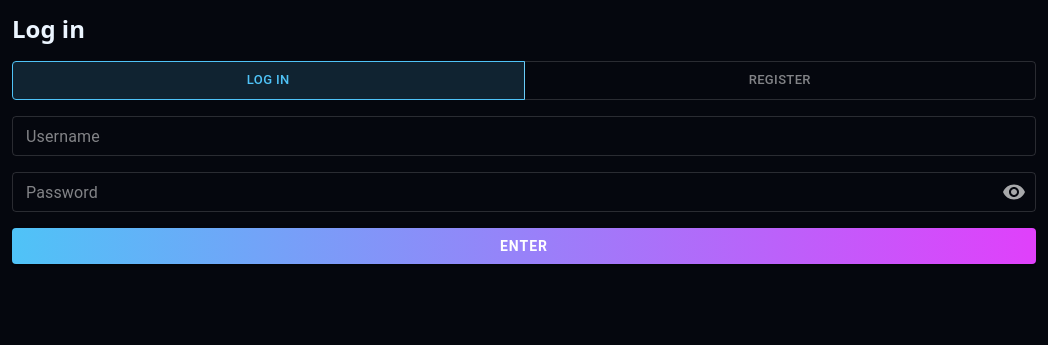
Test: RegisterForm › shows a validation error when password is too short
Type "Pablo" into the field labelled "Username" at (524, 136), box 12,116 -> 1036,156
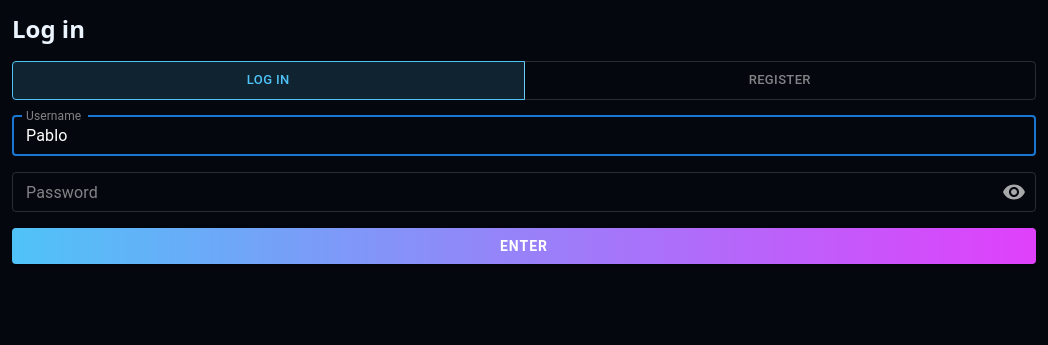
Type "123" into the password field labelled "Password" at (499, 192), box 12,172 -> 986,212
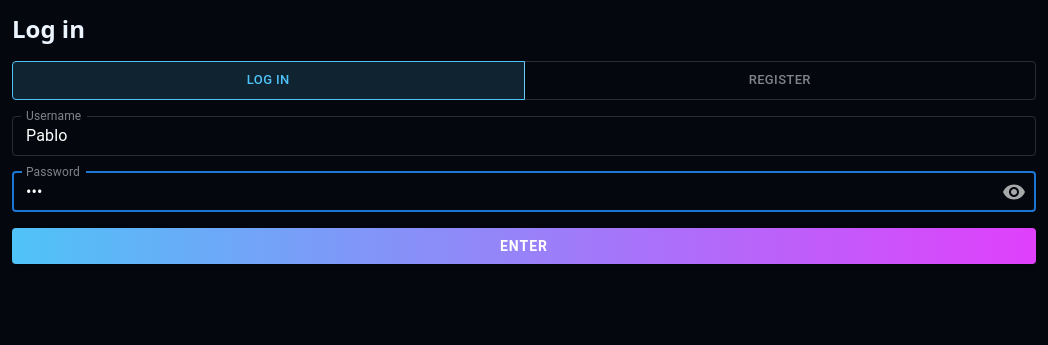
Click the button "Enter" at (524, 246), box 12,228 -> 1036,264
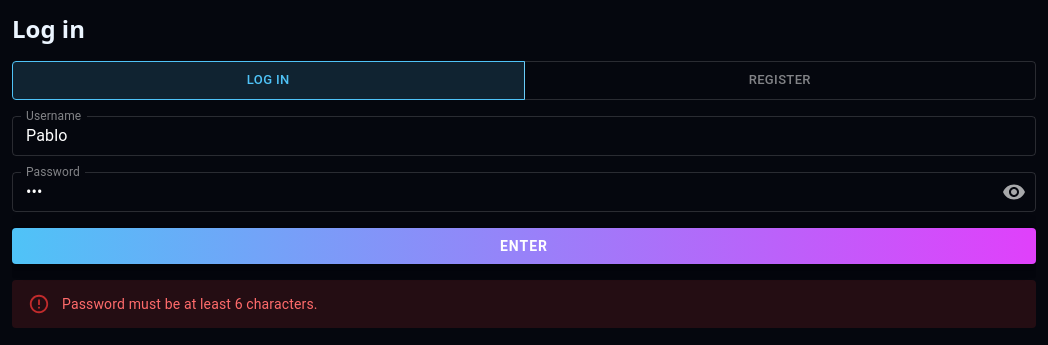
Check: the text "Password must be at least 6 characters." is shown, box 62,296 -> 318,312
